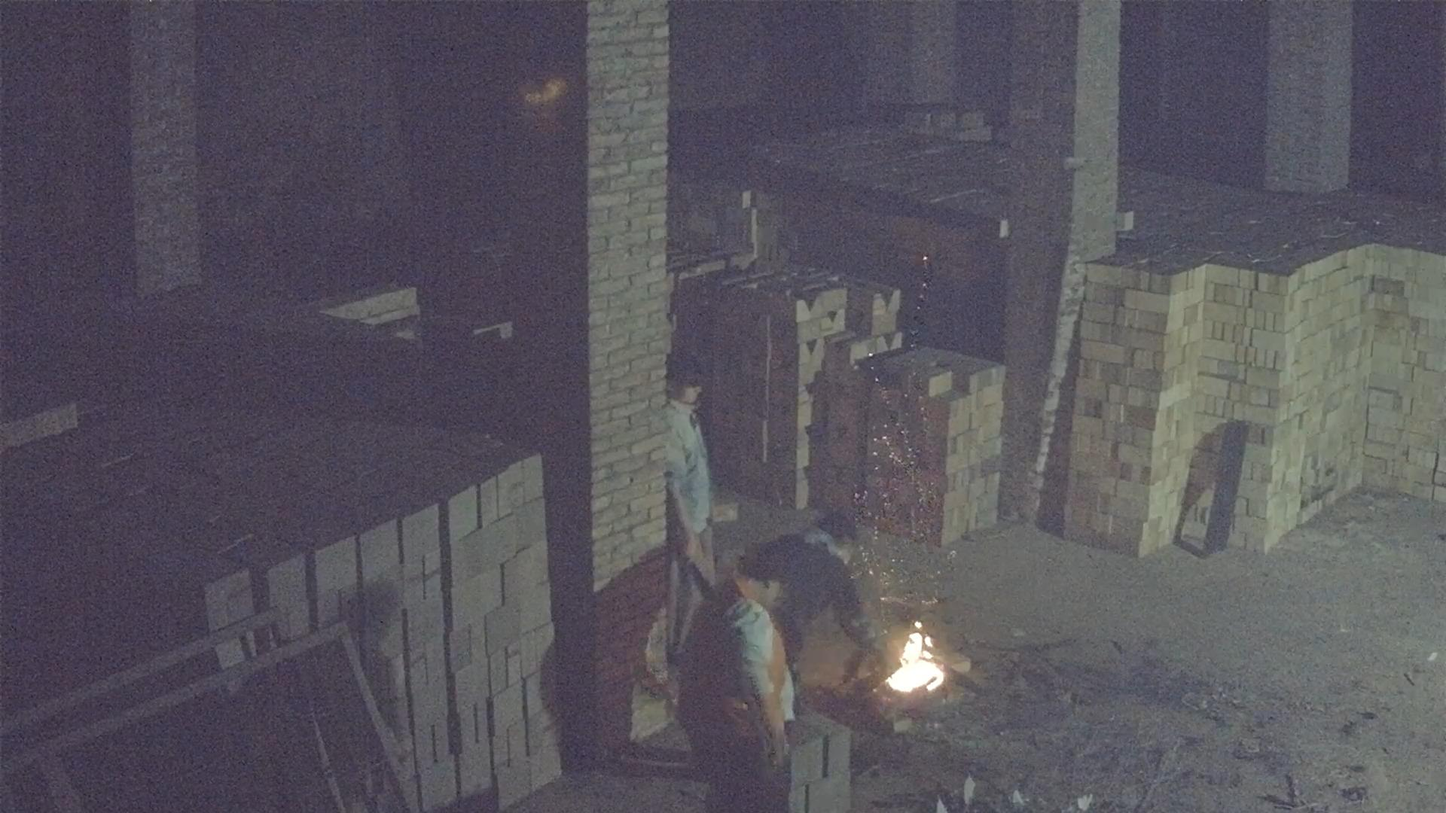fire: (886, 623, 945, 695)
